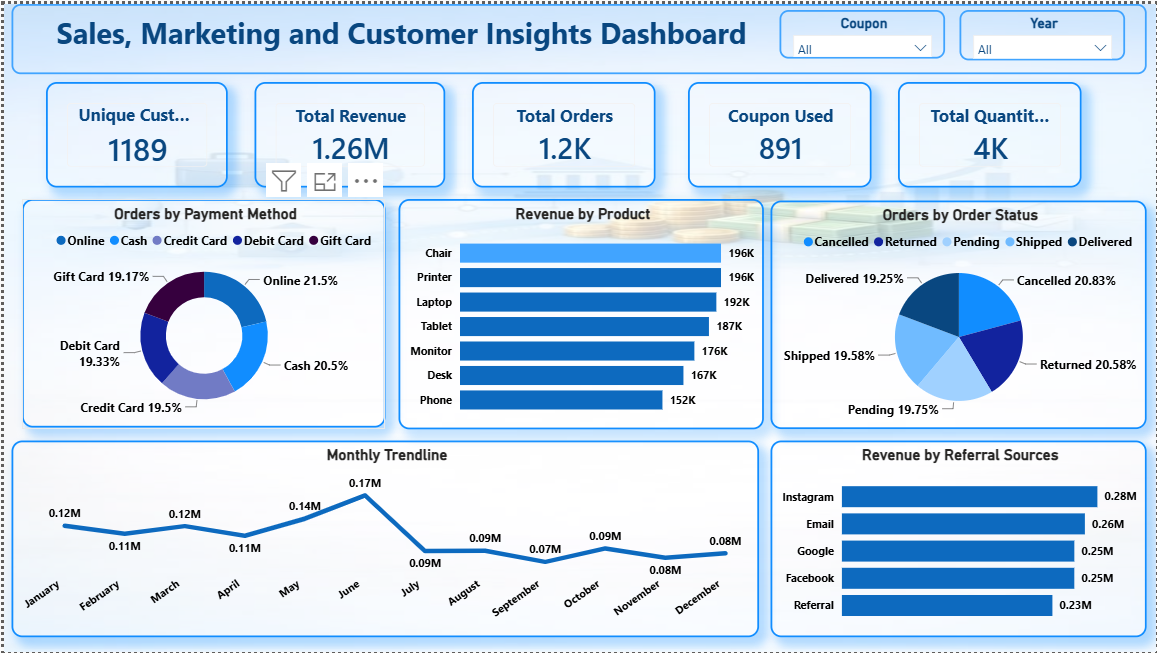

The dashboard page shown, as its layout file describes it:
{"tool":"powerbi","page":{"name":"Dashboard","canvas":[1280,720],"ordinal":0},"visuals":[{"type":"cardVisual","title":" Unique Customers","fields":{"Data":["Count(Sales_dataset.CustomerID)"]},"box":[198,55,204,136],"z":0},{"type":"cardVisual","title":"Total Revenue","fields":{"Data":["Sum(Sales_dataset.TotalPrice)"]},"box":[415,55,212,134],"z":1000},{"type":"cardVisual","title":"Total Orders","fields":{"Data":["Count(Sales_dataset.OrderID)"]},"box":[640,55,204,134],"z":2000},{"type":"cardVisual","title":"Coupons Used","fields":{"Data":["Sales_dataset.Coupon Used"]},"box":[861,55,204,134],"z":3000},{"type":"cardVisual","title":"Total Quantity Sold","fields":{"Data":["Sum(Sales_dataset.Quantity)"]},"box":[1077,55,204,134],"z":4000},{"type":"lineChart","title":"Monthly Trendline","fields":{"Category":["Sales_dataset.Date.Variation.Date Hierarchy.Month"],"Y":["Sum(Sales_dataset.TotalPrice)"]},"box":[197.5,205.6,680.1,234.8],"z":5000},{"type":"barChart","title":"Revenue by Product","fields":{"Category":["Sales_dataset.Product"],"Y":["Sum(Sales_dataset.TotalPrice)"]},"box":[892.2,205.6,388.6,234.8],"z":6000},{"type":"donutChart","title":"Orders by Payment Method","fields":{"Category":["Sales_dataset.PaymentMethod"],"Y":["CountNonNull(Sales_dataset.OrderID)"]},"box":[11.3,453.4,403.2,267.2],"z":7000},{"type":"pieChart","title":"Orders by Order Status","fields":{"Category":["Sales_dataset.OrderStatus"],"Y":["CountNonNull(Sales_dataset.OrderID)"]},"box":[430.7,453.4,417.8,267.2],"z":8000},{"type":"barChart","title":"Revenue by Referral Sources","fields":{"Category":["Sales_dataset.ReferralSource"],"Y":["Sum(Sales_dataset.TotalPrice)"]},"box":[861.4,453.4,419.4,267.2],"z":9000},{"type":"textbox","box":[0,0,1280,45],"z":10000},{"type":"slicer","fields":{"Values":["Sales_dataset.Year"]},"box":[0,89.1,184.6,116.6],"z":11000},{"type":"slicer","fields":{"Values":["Sales_dataset.CouponCode"]},"box":[0,255.8,184.6,184.6],"z":12000},{"type":"textbox","box":[0,218.6,184.6,38.9],"z":12001},{"type":"textbox","box":[0,45.3,197.5,43.7],"z":12002}]}

Visuals, with their boxes in screenshot pixels (x1, y1, x2, y2), scaled from the page's 1280x720 canvas onto the 1157x653 screenshot:
" Unique Customers" cardVisual: bbox(179, 50, 363, 173)
"Total Revenue" cardVisual: bbox(375, 50, 567, 171)
"Total Orders" cardVisual: bbox(578, 50, 763, 171)
"Coupons Used" cardVisual: bbox(778, 50, 963, 171)
"Total Quantity Sold" cardVisual: bbox(974, 50, 1156, 171)
"Monthly Trendline" lineChart: bbox(179, 186, 793, 399)
"Revenue by Product" barChart: bbox(806, 186, 1156, 399)
"Orders by Payment Method" donutChart: bbox(10, 411, 375, 652)
"Orders by Order Status" pieChart: bbox(389, 411, 767, 652)
"Revenue by Referral Sources" barChart: bbox(779, 411, 1156, 652)
textbox: bbox(0, 0, 1156, 41)
slicer - Sales_dataset.Year: bbox(0, 81, 167, 187)
slicer - Sales_dataset.CouponCode: bbox(0, 232, 167, 399)
textbox: bbox(0, 198, 167, 234)
textbox: bbox(0, 41, 179, 81)
